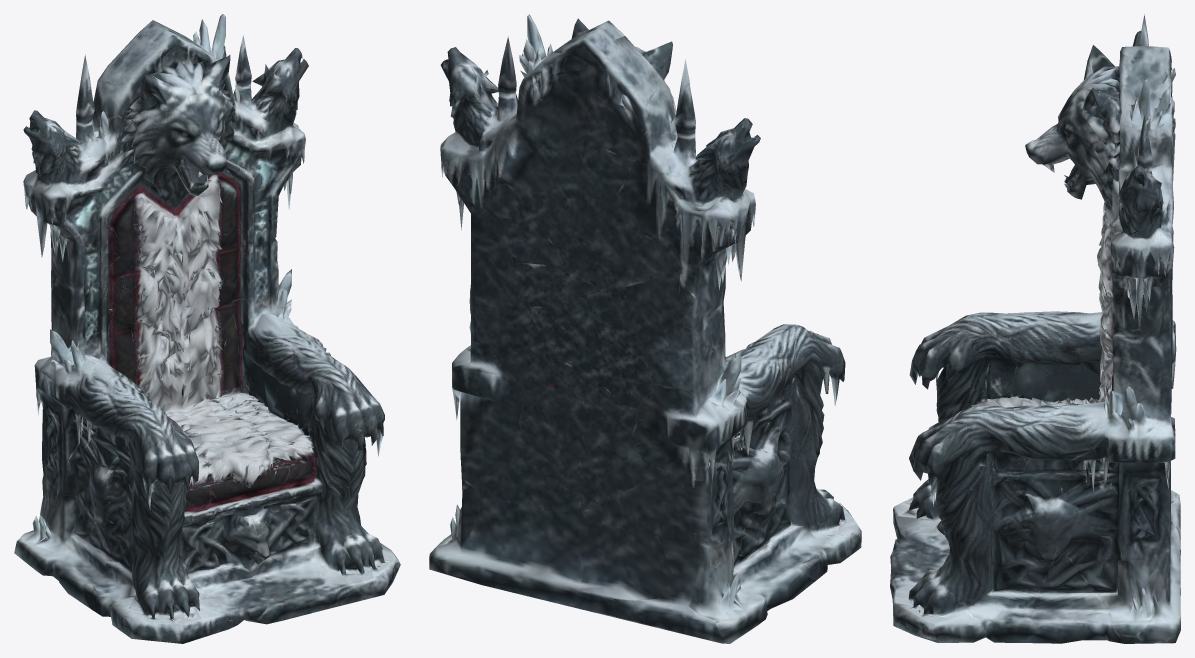
Rendered from wolfThrone.glb.
3 views of the same model, side by side, from view 1: azimuth 30°, elevation 25°; view 2: azimuth 150°, elevation 25°; view 3: azimuth 270°, elevation 25° (orthographic). The views are drawn at different scales.
Size of the model in its own units: 1.11 by 1.9 by 0.9473.
Materials: 1 (1 with a texture image).
